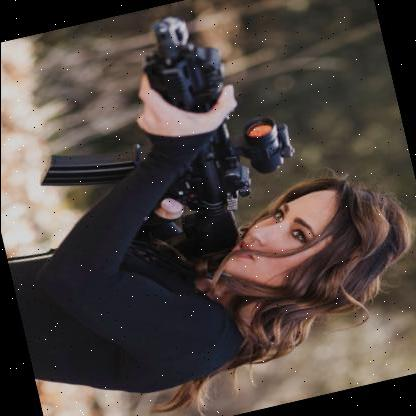rifle: (0, 0, 312, 293)
